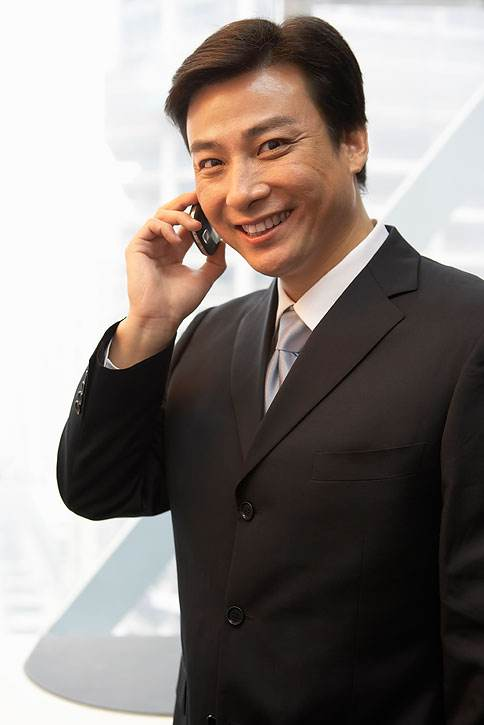calling: (120, 186, 229, 317)
